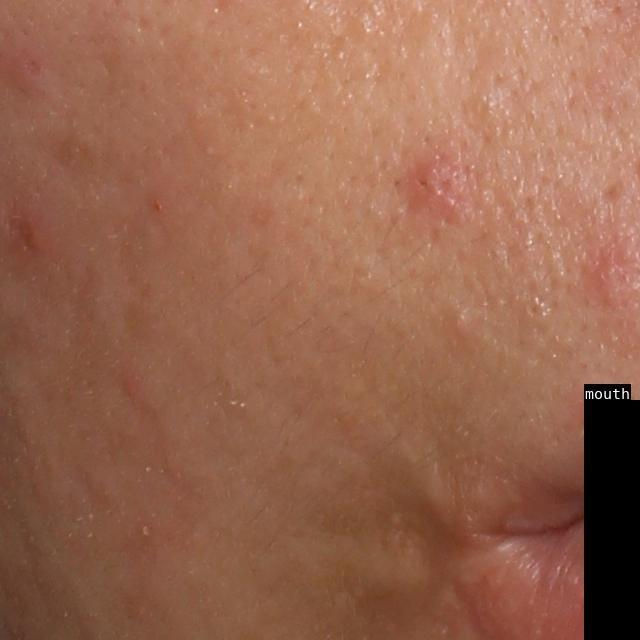comedo: (465, 83, 513, 126), (447, 306, 473, 335)
papule: (581, 246, 636, 325), (413, 158, 475, 217)
